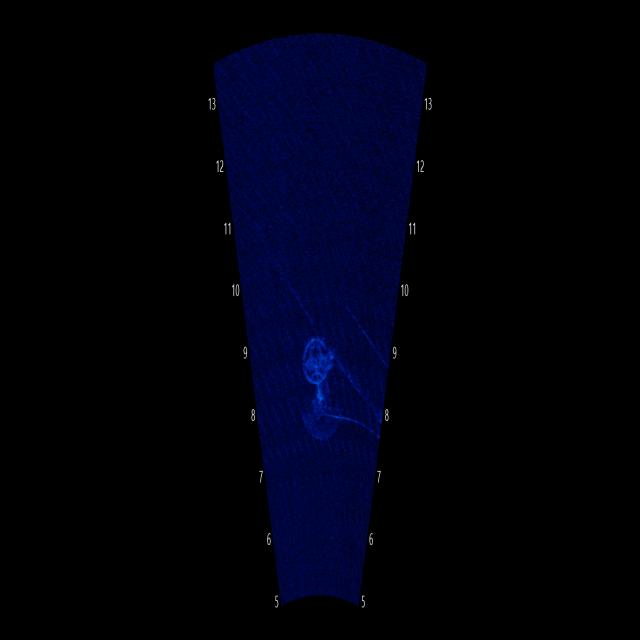circle: (300, 313, 350, 402)
